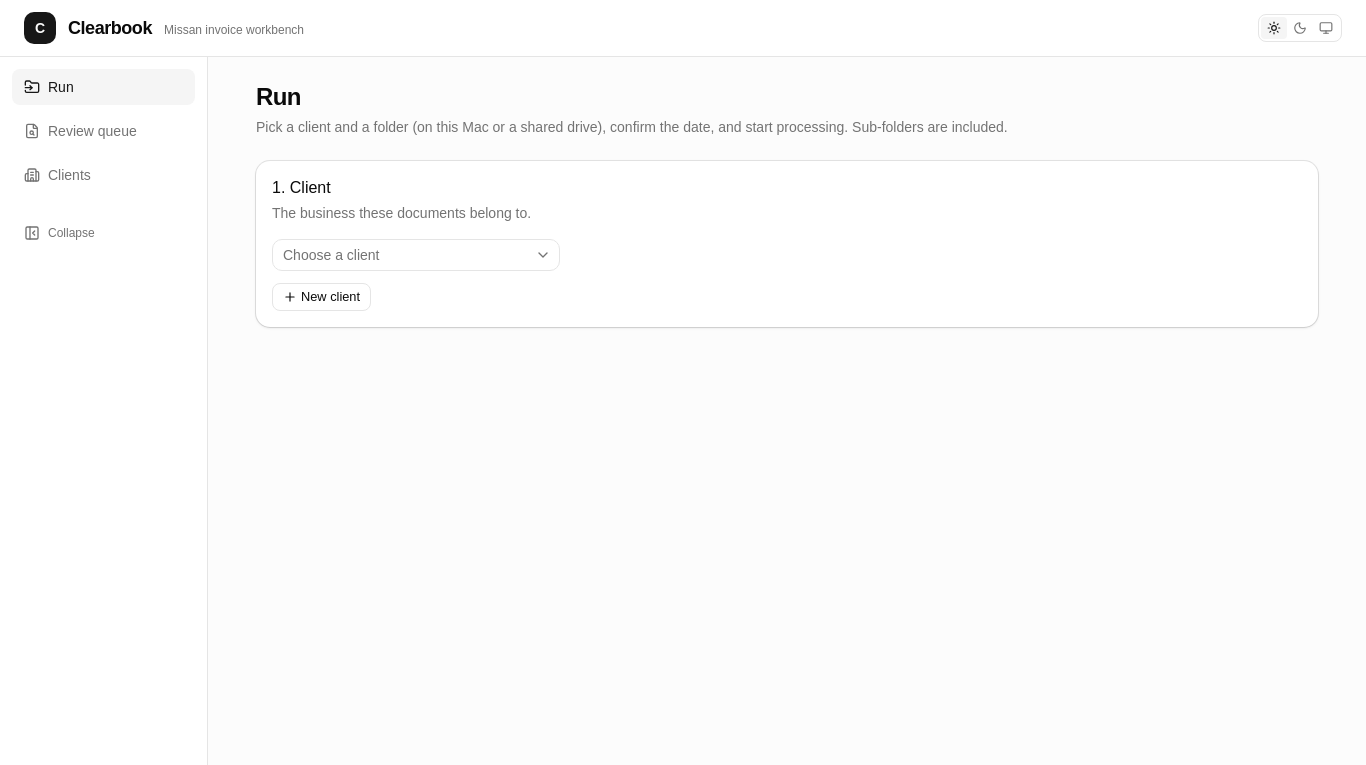
Test case: run screen › says which year is assumed for a folder name without one
The image size is (1366, 765).
Click the dropdown labelled "client": (331, 255) left=272, top=239, right=560, bottom=271
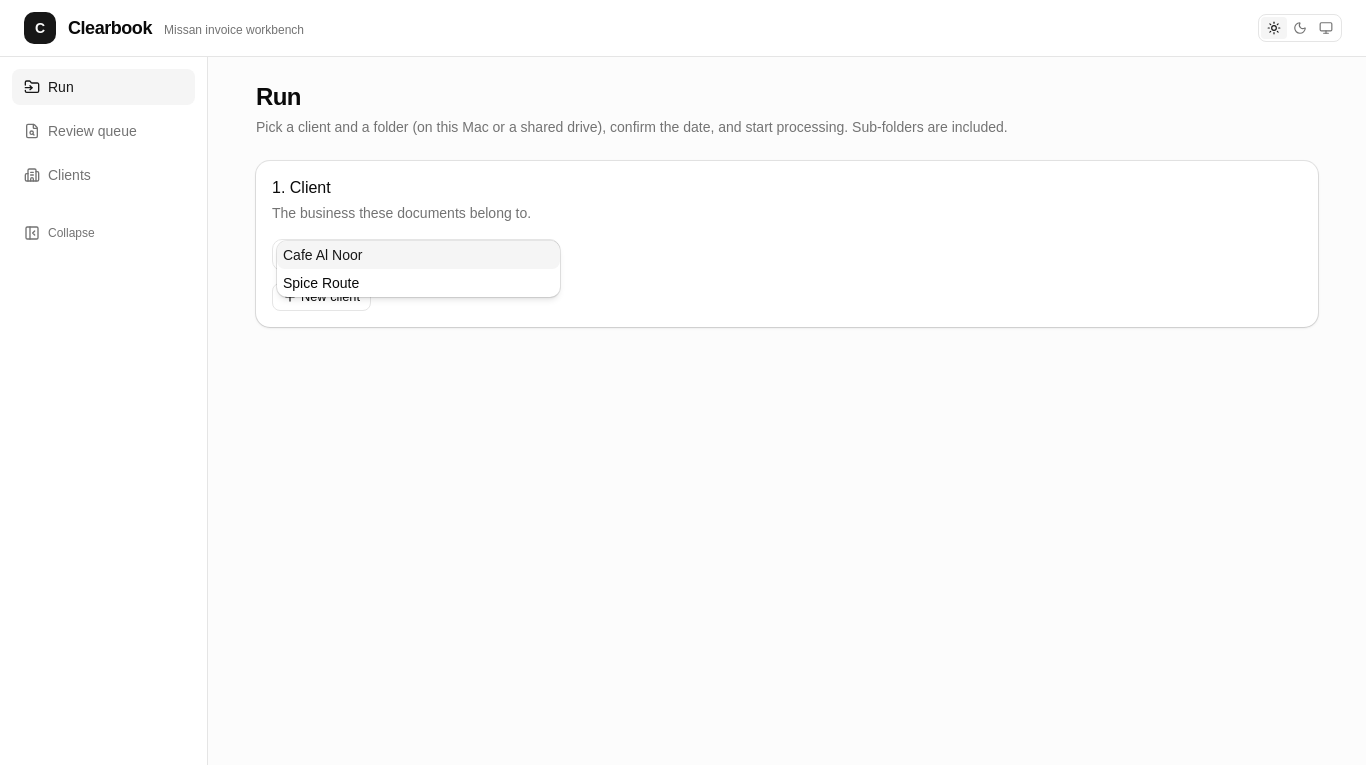
Click the option "Cafe Al Noor": (323, 255) left=277, top=241, right=560, bottom=269
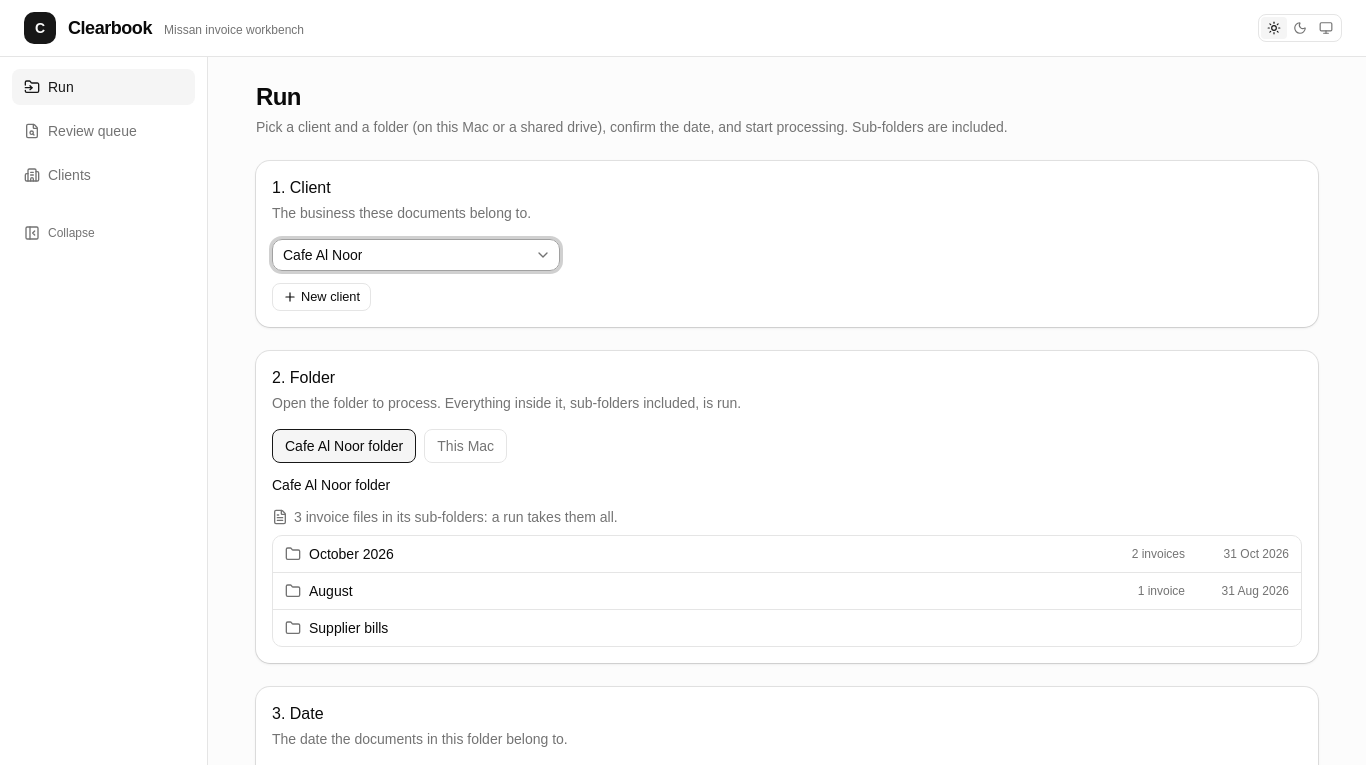
Click the button "August 1 invoice 31 Aug 2026": (331, 591) left=273, top=573, right=1301, bottom=609
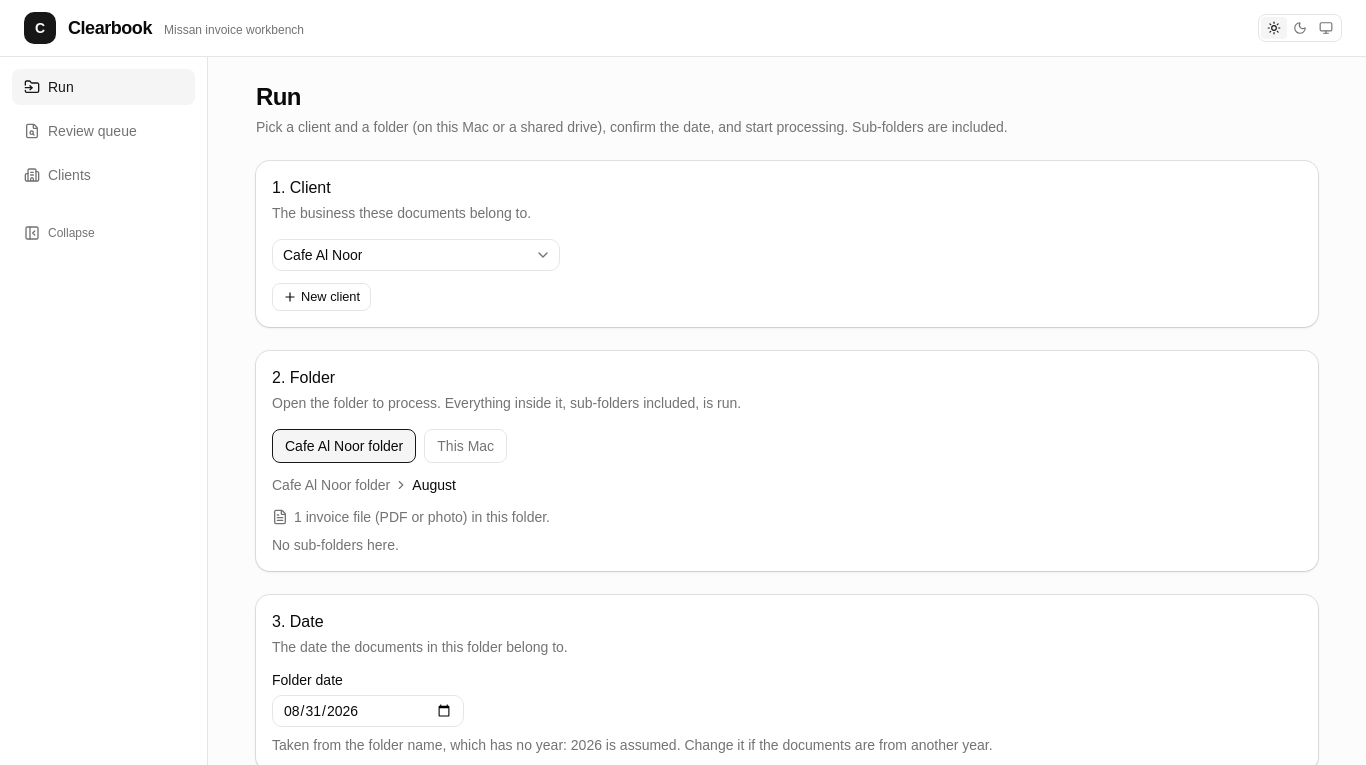
Now the date field labelled "Folder date" holds "2026-08-31", box left=272, top=695, right=464, bottom=727
Now the text with test id "date-hint" shows "which has no year: 2026 is assumed. Change it if the documents are from another year.", box left=272, top=737, right=993, bottom=753
